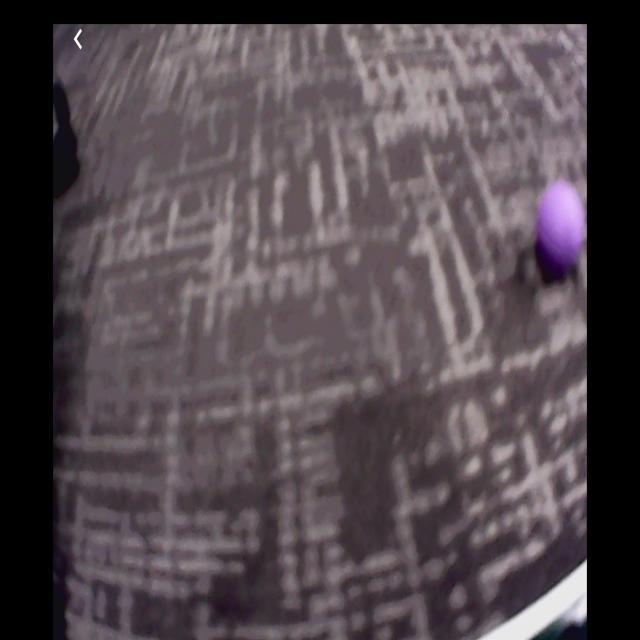ball: (538, 182, 588, 268)
